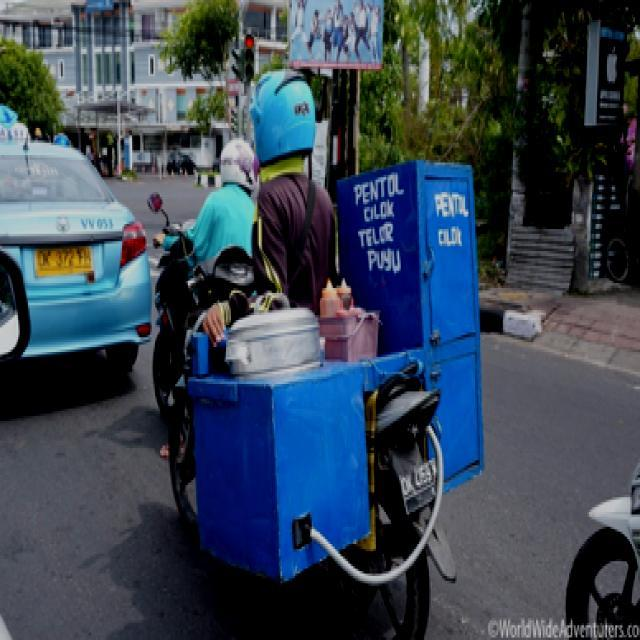Helmet: (241, 64, 325, 177)
